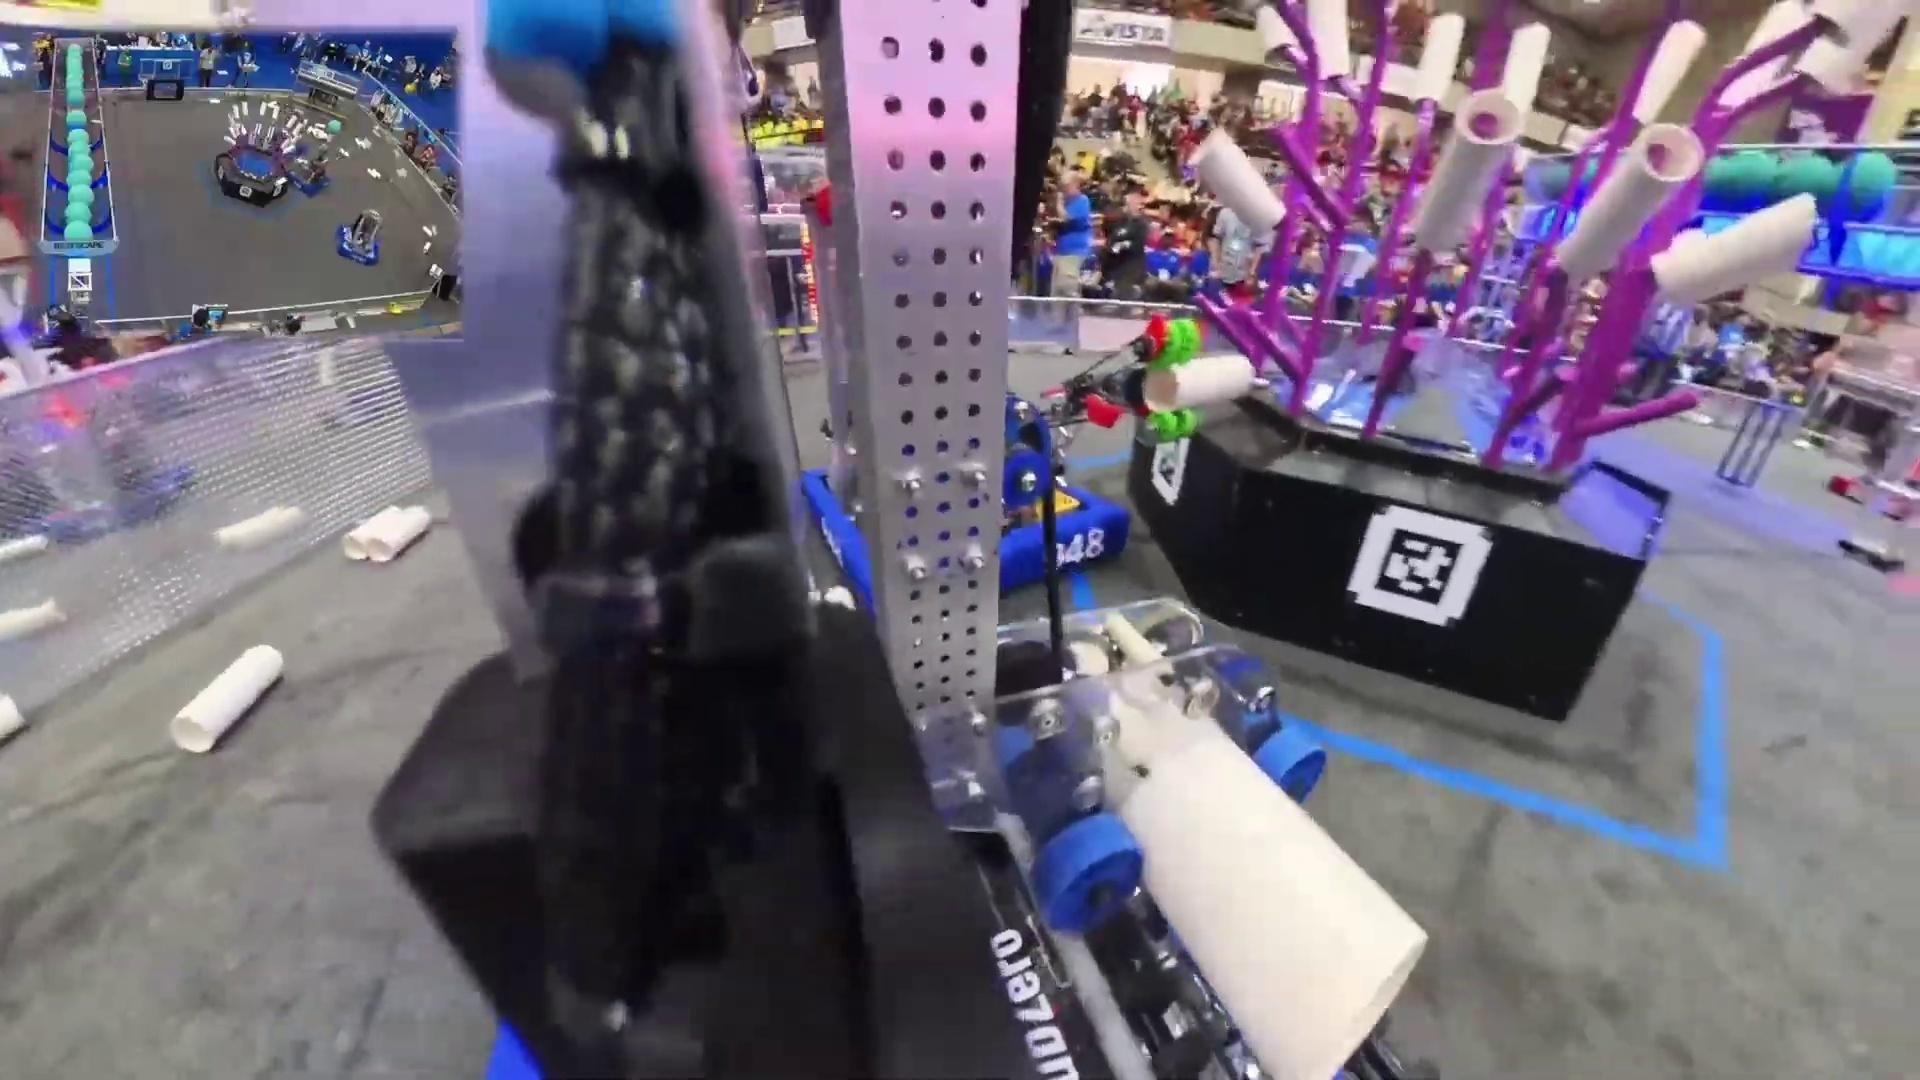robot: (795, 364, 1129, 615), (1826, 465, 1917, 526), (327, 206, 382, 266), (290, 150, 332, 204)
